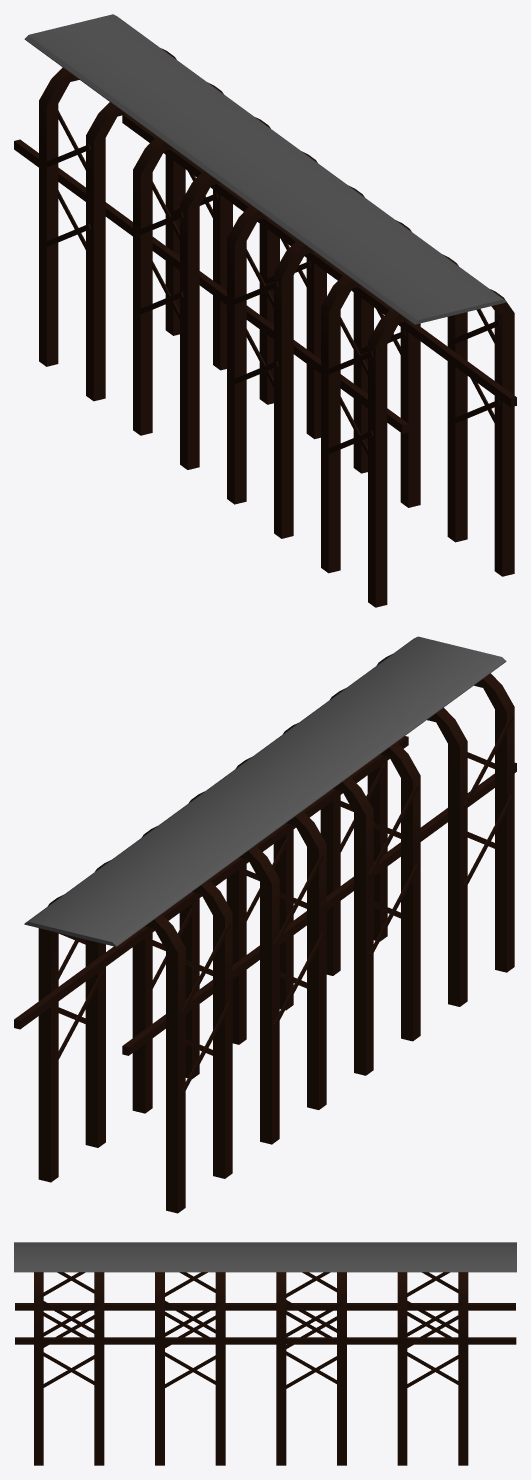
The model's file is TrainBridge2.FBX.
The picture shows the model from 3 angles, top to bottom: view 1: azimuth 30°, elevation 25°; view 2: azimuth 150°, elevation 25°; view 3: azimuth 270°, elevation 25°; orthographic projection. The views are drawn at different scales.
Parts seen in each view (by area): view 1: TrainBRidge; view 2: TrainBRidge; view 3: TrainBRidge.
Part boxes in pixels (bbox=[...]): TrainBRidge: bbox=[14, 14, 516, 607]; TrainBRidge: bbox=[14, 636, 516, 1213]; TrainBRidge: bbox=[14, 1242, 516, 1465].
Size of the model in its own units: 989 by 1945 by 4703.
